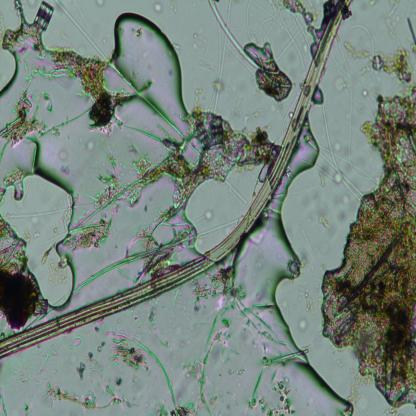Air bubble: (232, 218, 361, 416), (109, 7, 194, 117), (282, 125, 320, 205), (312, 84, 324, 107)
Anthropogenic: (0, 0, 359, 361)
Background material: (320, 86, 416, 416), (74, 135, 233, 250), (97, 313, 193, 416), (50, 38, 116, 124), (184, 300, 232, 406), (0, 226, 41, 330), (0, 92, 56, 154), (242, 312, 296, 373), (219, 123, 276, 177), (362, 50, 416, 96), (203, 264, 251, 313), (43, 382, 130, 409), (242, 370, 293, 416), (1, 22, 50, 65), (70, 208, 114, 250), (377, 5, 416, 47), (34, 246, 72, 288), (286, 0, 318, 45), (188, 25, 210, 58), (300, 279, 316, 313), (290, 312, 313, 335), (143, 299, 161, 328), (55, 148, 71, 175), (74, 360, 91, 380), (128, 142, 143, 161), (66, 339, 82, 351), (13, 176, 22, 196), (149, 0, 161, 13), (90, 354, 100, 368), (94, 0, 105, 8), (88, 143, 96, 153)
Diatom: (192, 113, 232, 155), (34, 1, 54, 32), (28, 296, 49, 318)
Glass filter fibre: (73, 233, 192, 292), (319, 102, 360, 202), (54, 0, 111, 60), (209, 0, 258, 65), (210, 2, 233, 114), (346, 19, 380, 82), (318, 153, 364, 195), (279, 7, 306, 73), (196, 212, 245, 239), (6, 205, 73, 223), (223, 178, 249, 203), (295, 12, 312, 47)
